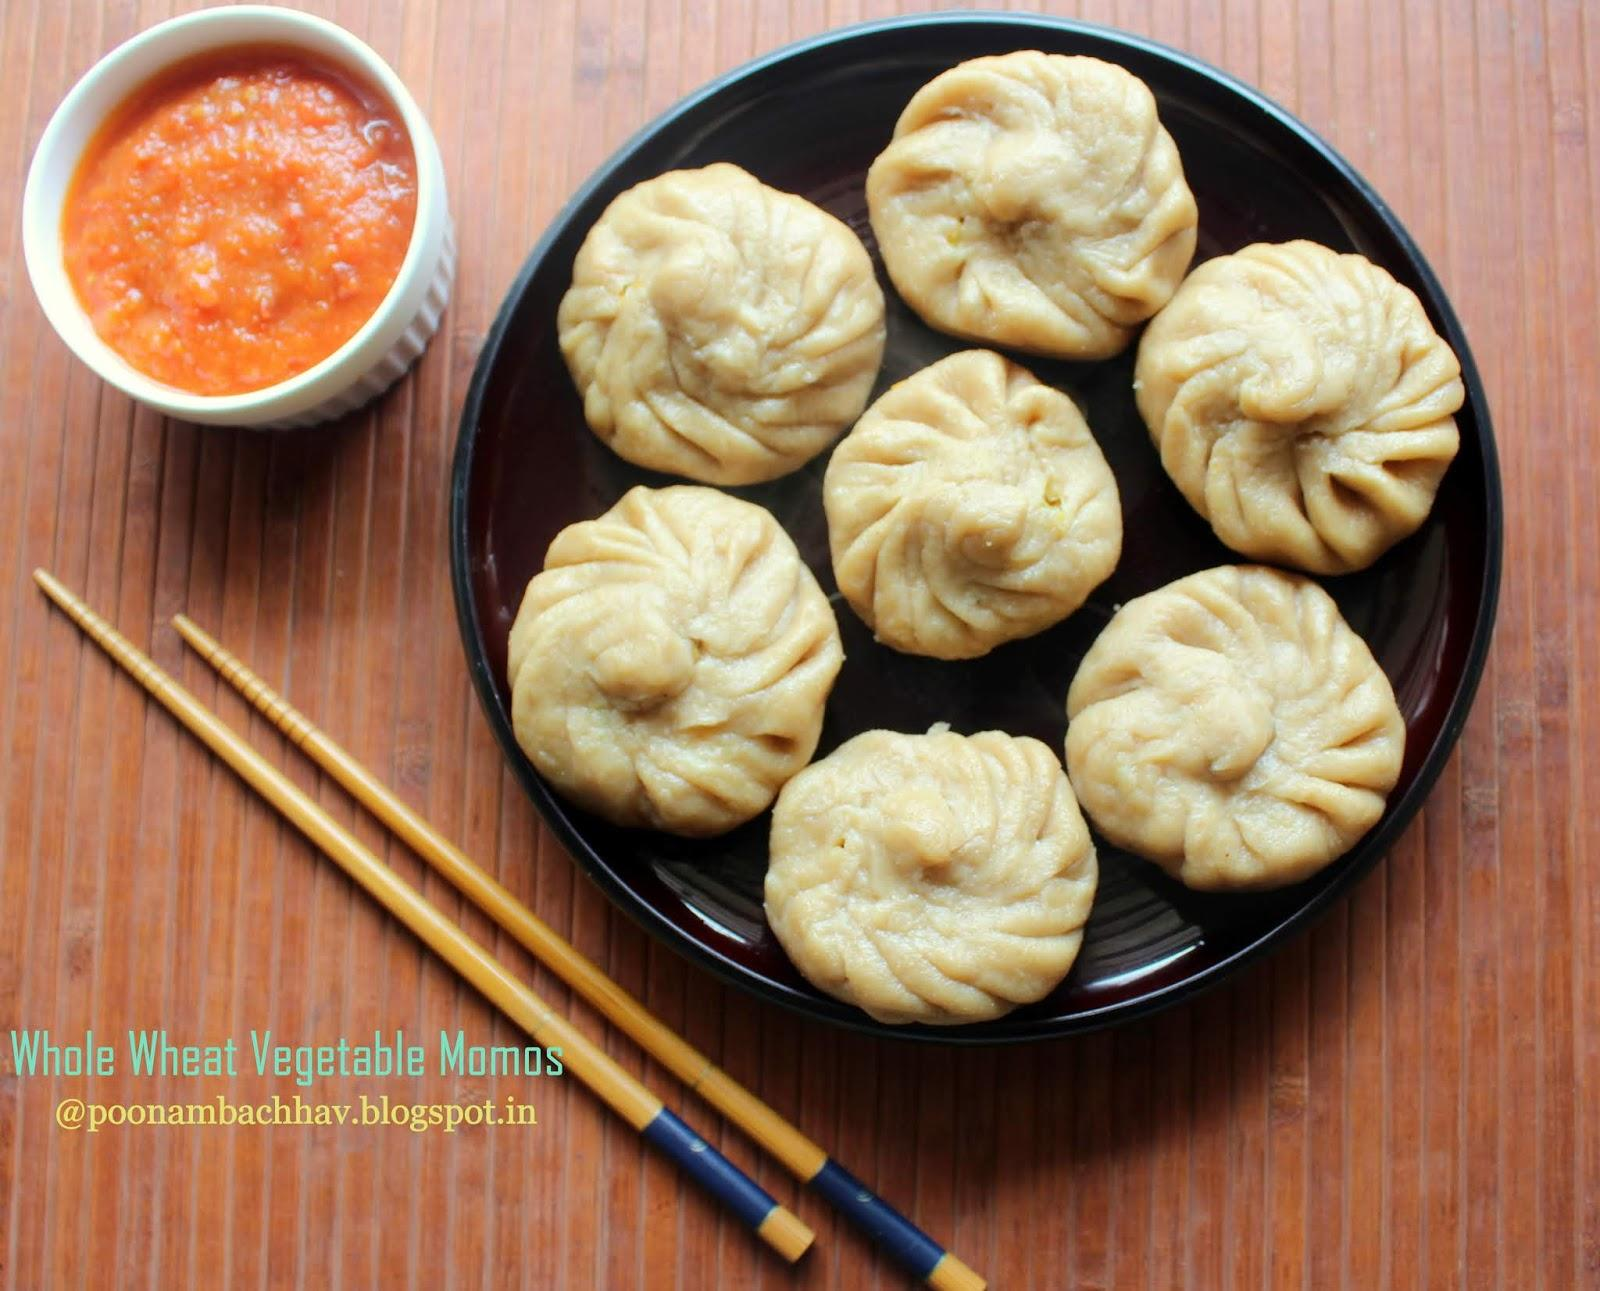momos: (510, 487, 844, 829), (1065, 565, 1406, 891), (1138, 241, 1466, 574), (560, 162, 885, 485), (865, 50, 1197, 358), (765, 725, 1097, 1025), (824, 350, 1122, 660)
